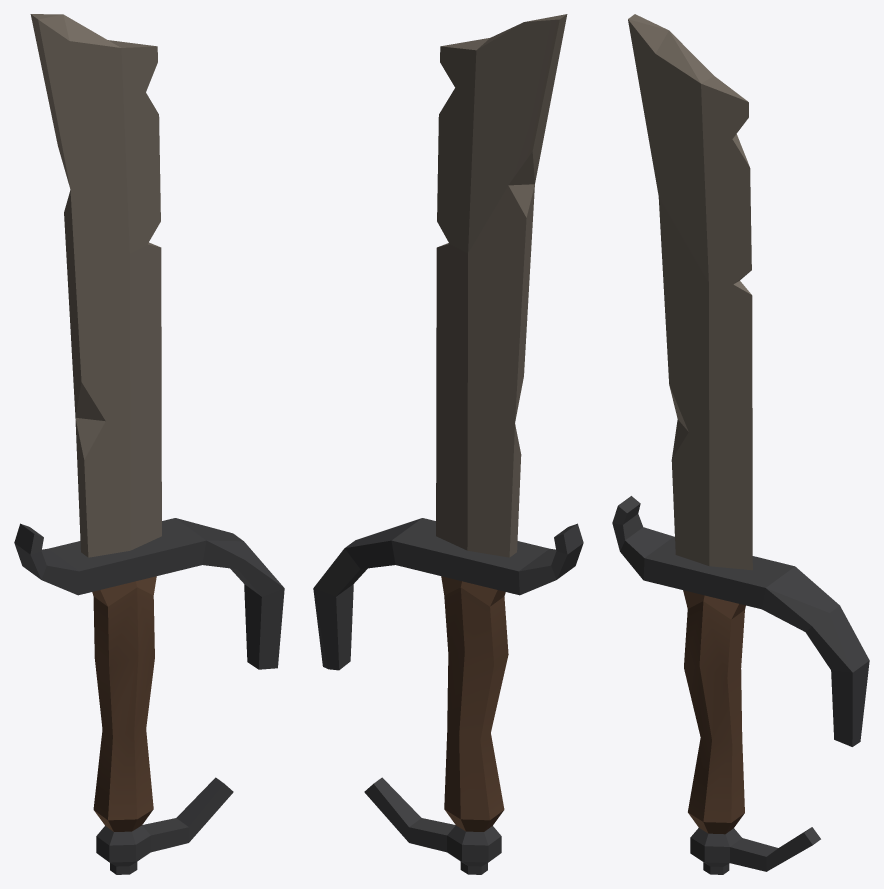
Rendered from SM_Wep_Broken_01.glb.
3 views of the same model, side by side, from view 1: azimuth 30°, elevation 25°; view 2: azimuth 150°, elevation 25°; view 3: azimuth 330°, elevation 25° (orthographic). The views are drawn at different scales.
Parts seen in each view (by area): view 1: SM_Wep_Broken_01; view 2: SM_Wep_Broken_01; view 3: SM_Wep_Broken_01.
Boxes of the visible parts, x1,y1,x2,y2 form: SM_Wep_Broken_01: (14,14,284,874); SM_Wep_Broken_01: (313,14,583,874); SM_Wep_Broken_01: (612,14,869,874).
Size of the model in its own units: 0.0021 by 0.00693 by 0.000456.
